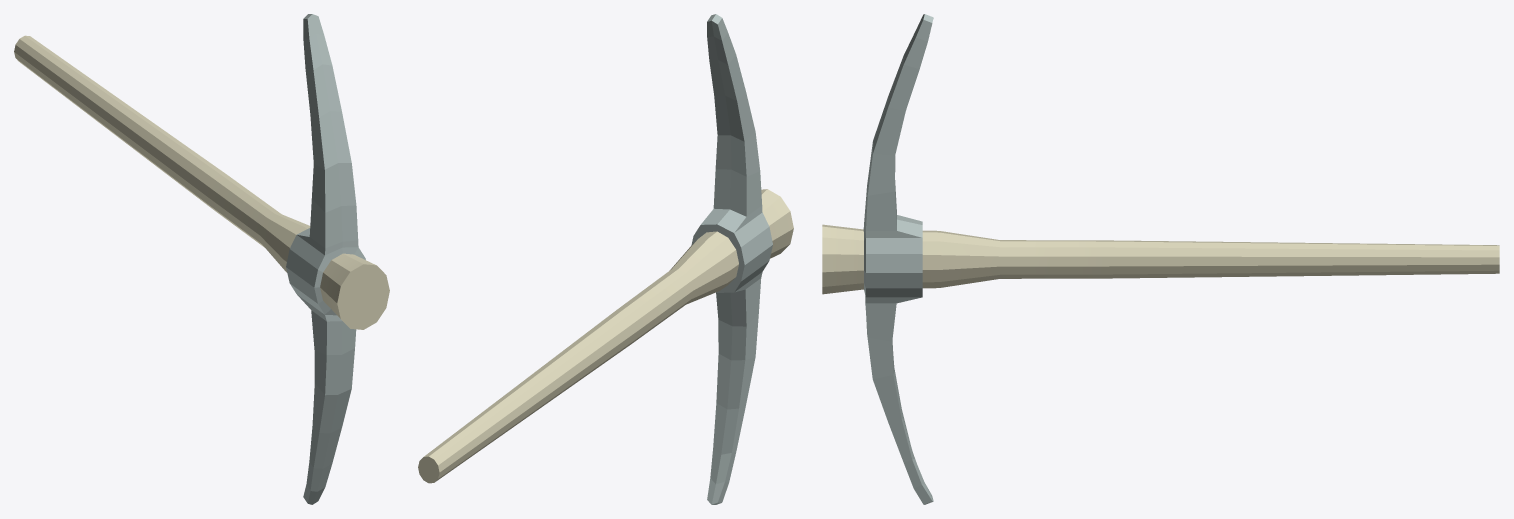
Rendered from pickAxe_fbx.fbx.
3 views of the same model, side by side, from view 1: azimuth 30°, elevation 25°; view 2: azimuth 150°, elevation 25°; view 3: azimuth 270°, elevation 25° (orthographic).
Parts seen in each view (by area): view 1: pickMetal2, pickHandle2; view 2: pickMetal2, pickHandle2; view 3: pickHandle2, pickMetal2.
Boxes of the visible parts, x1,y1,x2,y2 form: pickMetal2: [286, 14, 365, 504]; pickHandle2: [14, 35, 389, 329]; pickMetal2: [691, 14, 772, 504]; pickHandle2: [418, 189, 793, 483]; pickHandle2: [822, 224, 1499, 294]; pickMetal2: [863, 14, 933, 504].
Size of the model in its own units: 0.1803 by 1.54 by 1.93.
